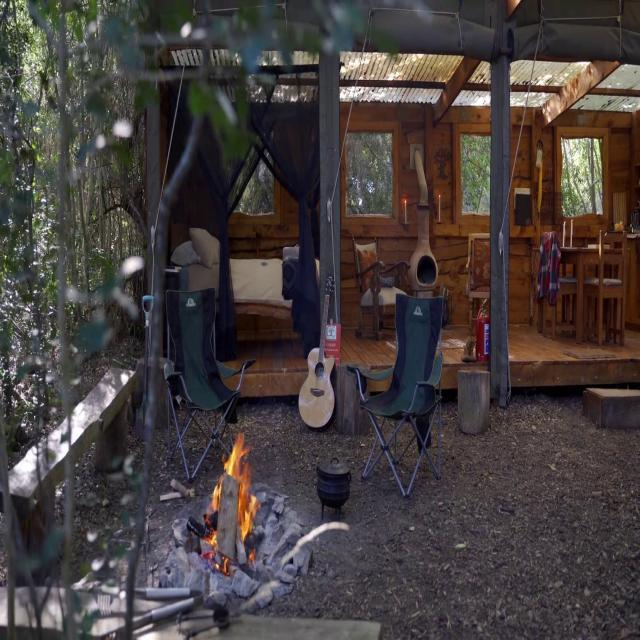Fire: (203, 427, 266, 569)
